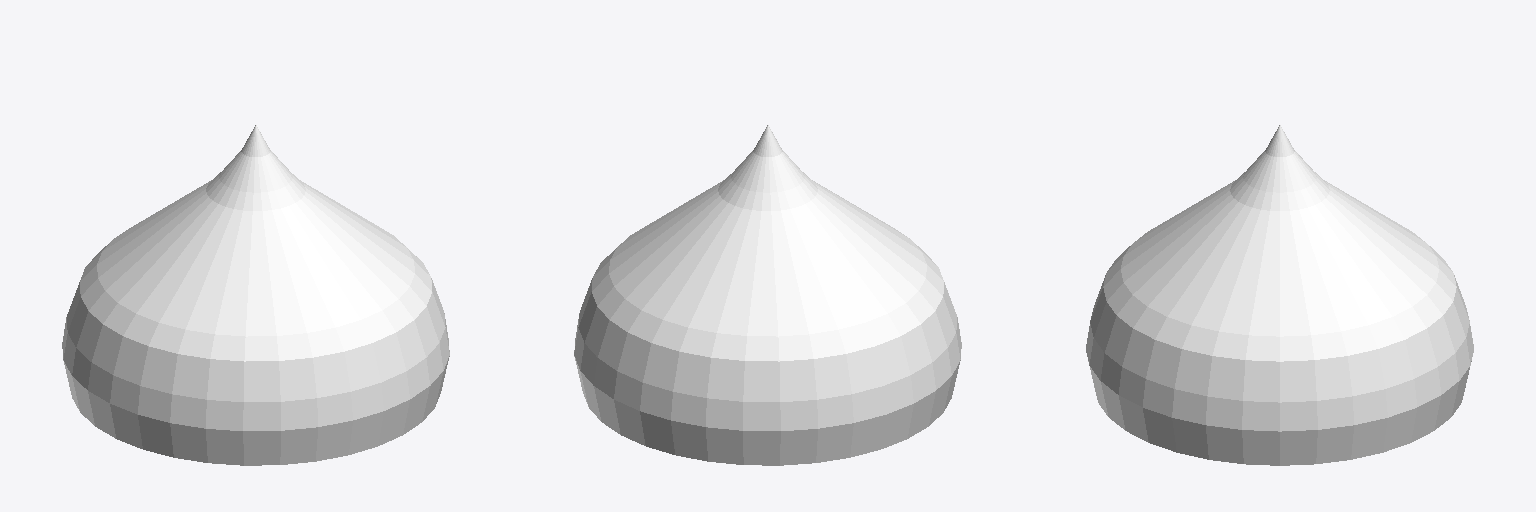
The model's file is bun.obj.
The picture shows the model from 3 angles: view 1: azimuth 30°, elevation 25°; view 2: azimuth 150°, elevation 25°; view 3: azimuth 270°, elevation 25°; orthographic projection.
Visible parts, largest first — view 1: Cylinder_Cylinder.001; view 2: Cylinder_Cylinder.001; view 3: Cylinder_Cylinder.001.
Boxes of the visible parts, x1=… form: Cylinder_Cylinder.001: x1=62, y1=125, x2=449, y2=465; Cylinder_Cylinder.001: x1=574, y1=125, x2=961, y2=465; Cylinder_Cylinder.001: x1=1086, y1=125, x2=1473, y2=465.
Size of the model in its own units: 18.64 by 13.92 by 18.64.